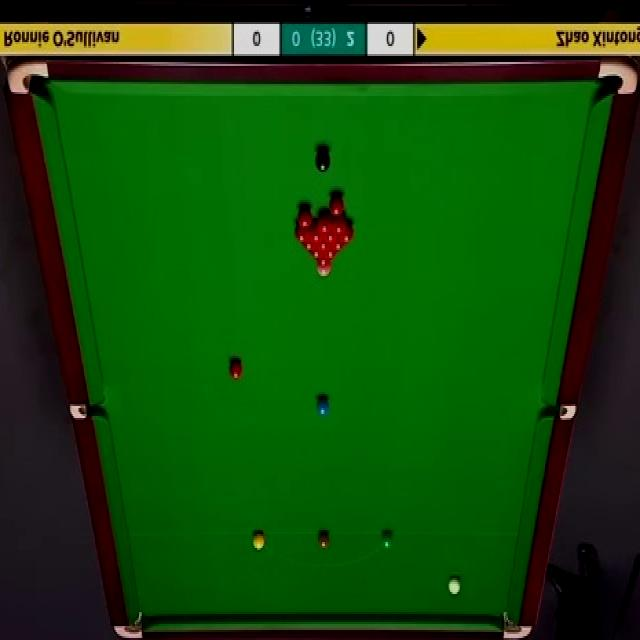black-ball: (316, 150, 330, 172)
blue-ball: (316, 397, 330, 418)
brown-ball: (317, 529, 330, 551)
green-ball: (380, 530, 393, 551)
pink-ball: (316, 264, 334, 278)
red-ball: (299, 207, 313, 228), (228, 358, 242, 379), (330, 194, 343, 216), (340, 225, 354, 244), (334, 212, 346, 234), (310, 222, 323, 242), (333, 230, 345, 251), (295, 223, 309, 241), (318, 213, 331, 232), (325, 221, 337, 241), (302, 242, 316, 250), (316, 242, 333, 248)
white-ball: (448, 577, 461, 596)
yellow-ball: (253, 530, 265, 550)
